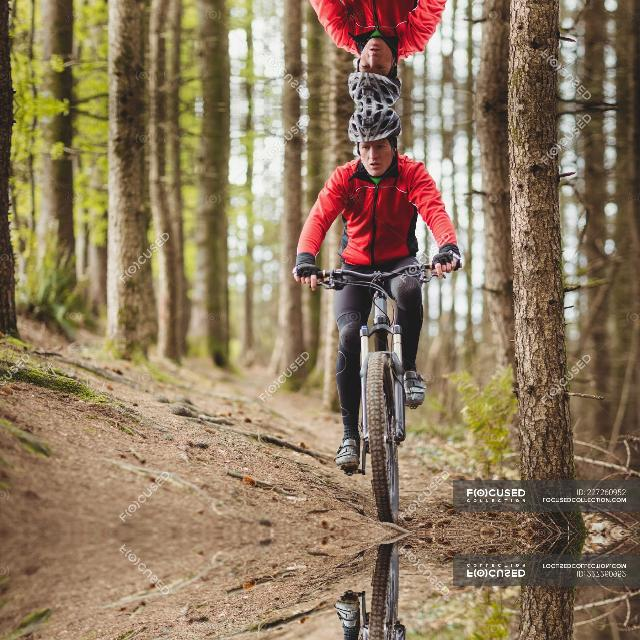obstacle: (276, 246, 462, 522), (276, 544, 462, 640)
person: (322, 106, 430, 182), (322, 30, 430, 106)
